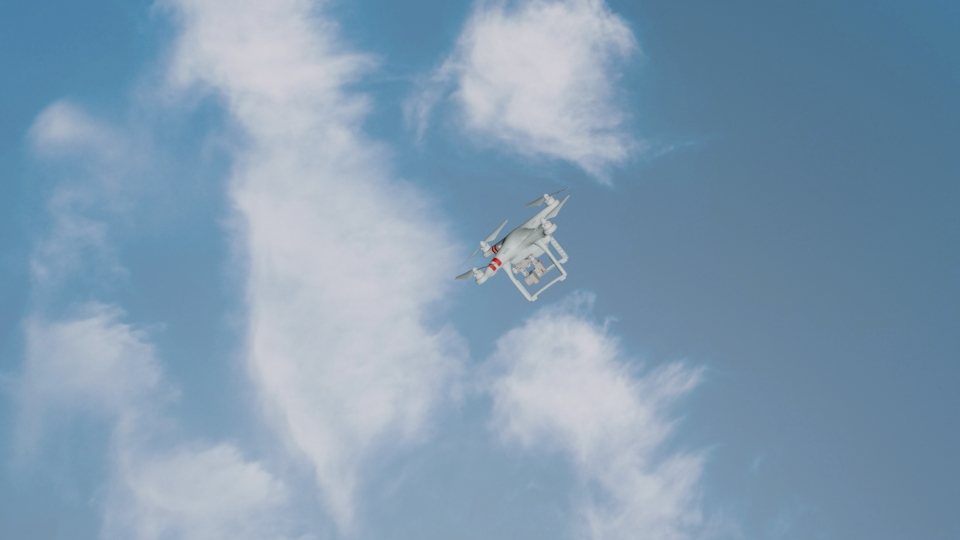drone: (453, 188, 572, 301)
